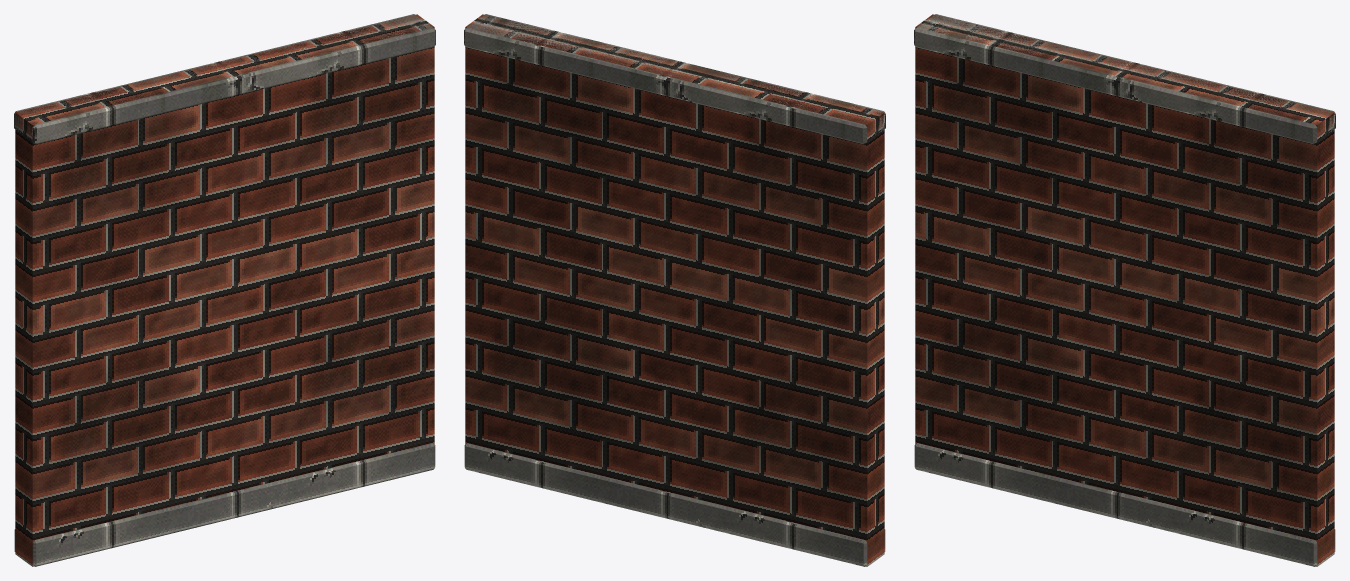
File: wall_brick.glb
The picture shows the model from 3 angles, left to right: view 1: azimuth 30°, elevation 25°; view 2: azimuth 150°, elevation 25°; view 3: azimuth 330°, elevation 25°; orthographic projection.
Visible parts, largest first — view 1: wall_brick_mesh; view 2: wall_brick_mesh; view 3: wall_brick_mesh.
Boxes of the visible parts, bbox=[...] form: wall_brick_mesh: bbox=[14, 14, 435, 566]; wall_brick_mesh: bbox=[464, 14, 885, 566]; wall_brick_mesh: bbox=[914, 14, 1335, 566].
Size of what is drawn, in the model's own units: 4 by 4.2 by 0.38.
2 materials, 2 textured.
